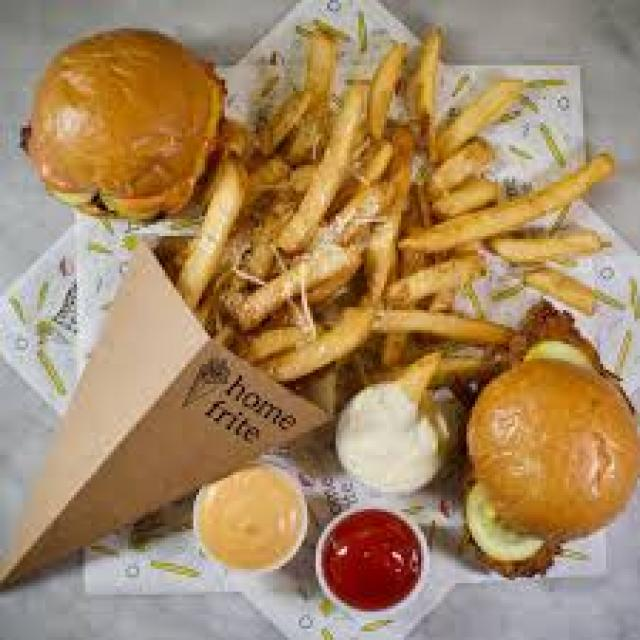Burger: (461, 296, 637, 580), (11, 17, 228, 228)
French Fries: (208, 20, 592, 384)
